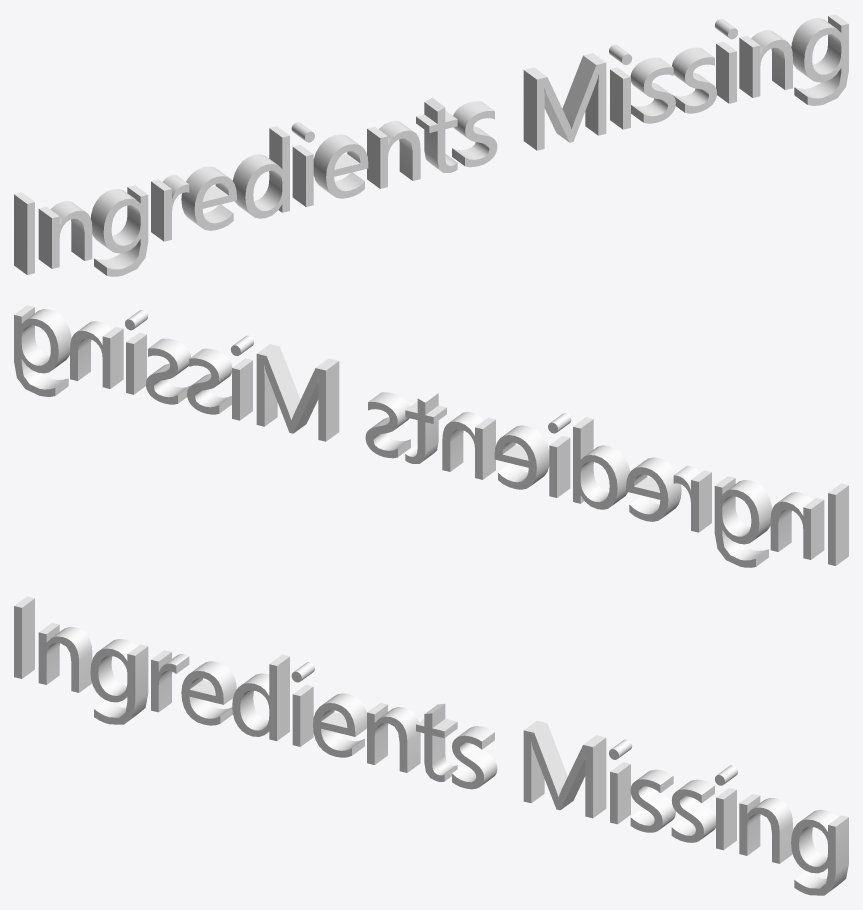
File: IngredientsMissign.fbx
3 views of the same model, one above another, from view 1: azimuth 30°, elevation 25°; view 2: azimuth 150°, elevation 25°; view 3: azimuth 330°, elevation 25° (orthographic).
Parts seen in each view (by area): view 1: node_id36; view 2: node_id36; view 3: node_id36.
Boxes of the visible parts, x1,y1,x2,y2 form: node_id36: (14,14,848,276); node_id36: (14,305,848,567); node_id36: (14,596,848,895).
Size of the model in its own units: 0.5945 by 0.0686 by 0.0165.
Materials: 1 (1 with a texture image).
